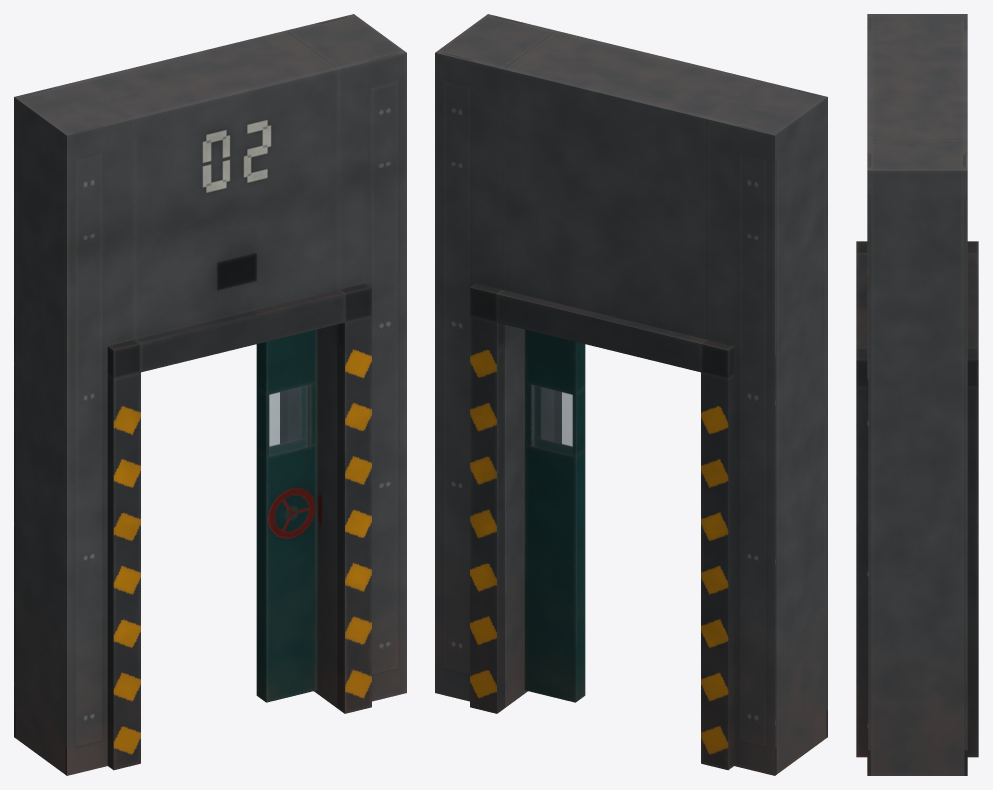
The model's file is airlock_door.glb.
3 views of the same model, side by side, from view 1: azimuth 30°, elevation 25°; view 2: azimuth 150°, elevation 25°; view 3: azimuth 270°, elevation 25° (orthographic). The views are drawn at different scales.
Visible parts, largest first — view 1: airlock_door; view 2: airlock_door; view 3: airlock_door.
Part boxes in pixels (x1,y1,x2,y2): airlock_door: (14, 14, 406, 775); airlock_door: (435, 14, 827, 775); airlock_door: (856, 14, 978, 775).
Bounding box in the file's own units: 2 × 3.6 × 0.66.
1 material, 1 textured.
